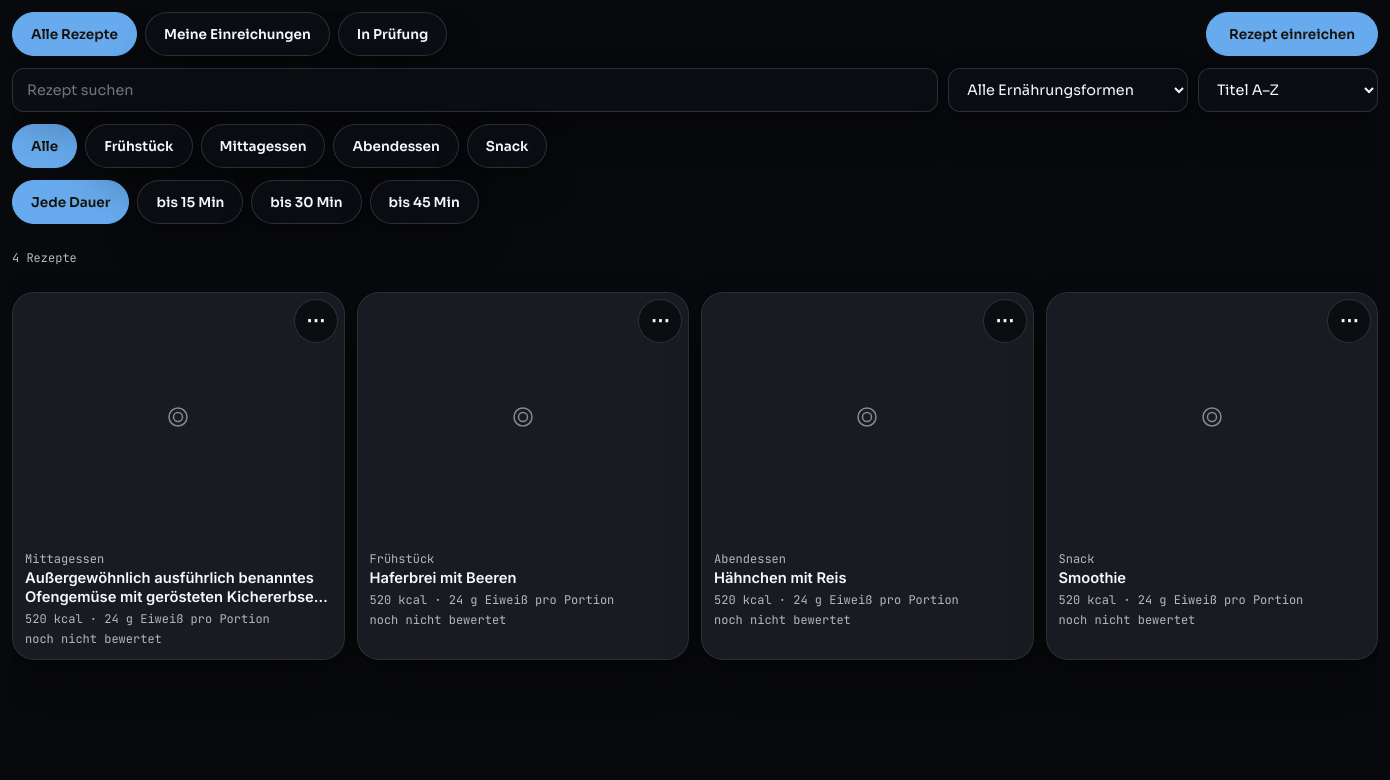
RecipesView — Zustände › Filter ohne Treffer: 'Kein Rezept passt' mit Weg zurück
Type "xyz" into the search field labelled "Rezept suchen". click: [475, 90]
box: 12,68 -> 938,112
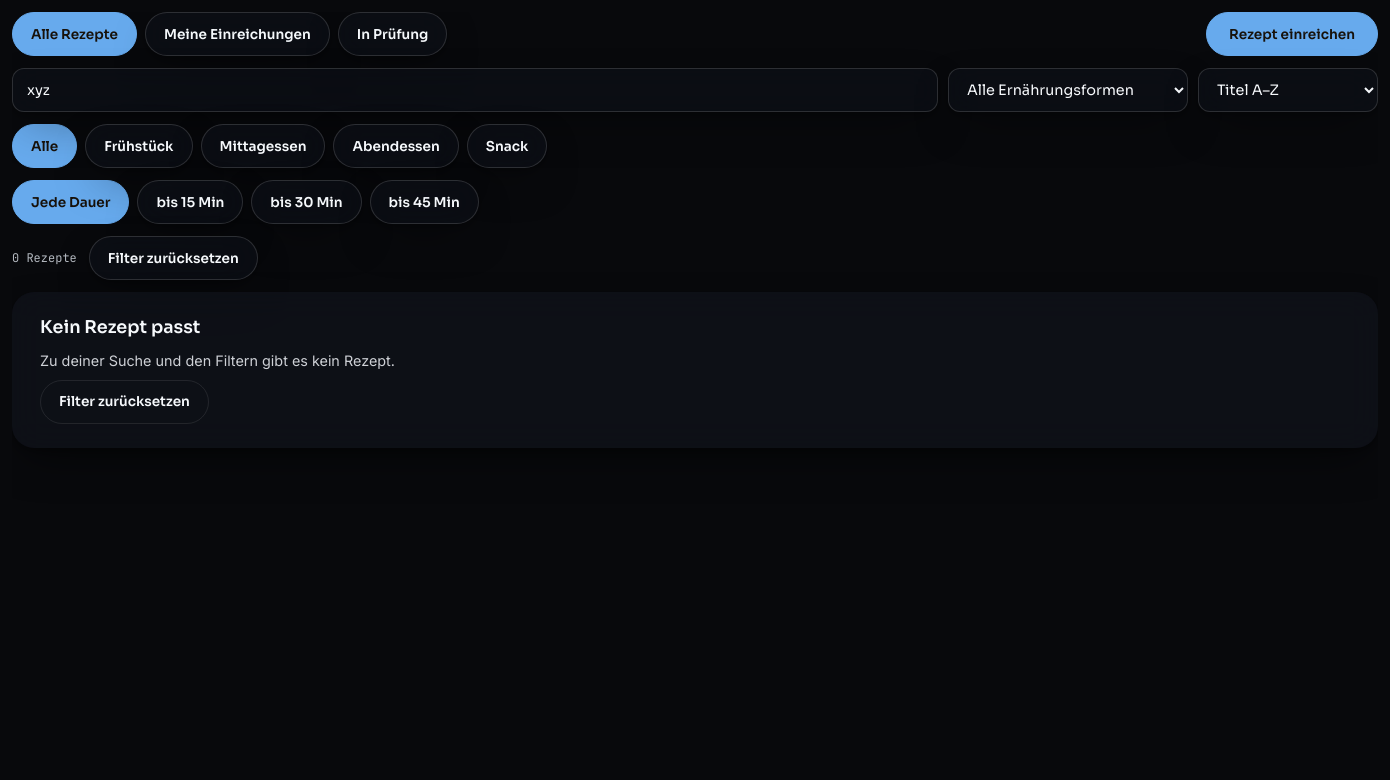
Expected: the heading "Kein Rezept passt" is shown, 40,316 -> 200,338
Click the button "Filter zurücksetzen" next to "0 Rezepte". click: [173, 258]
box: 89,236 -> 258,280
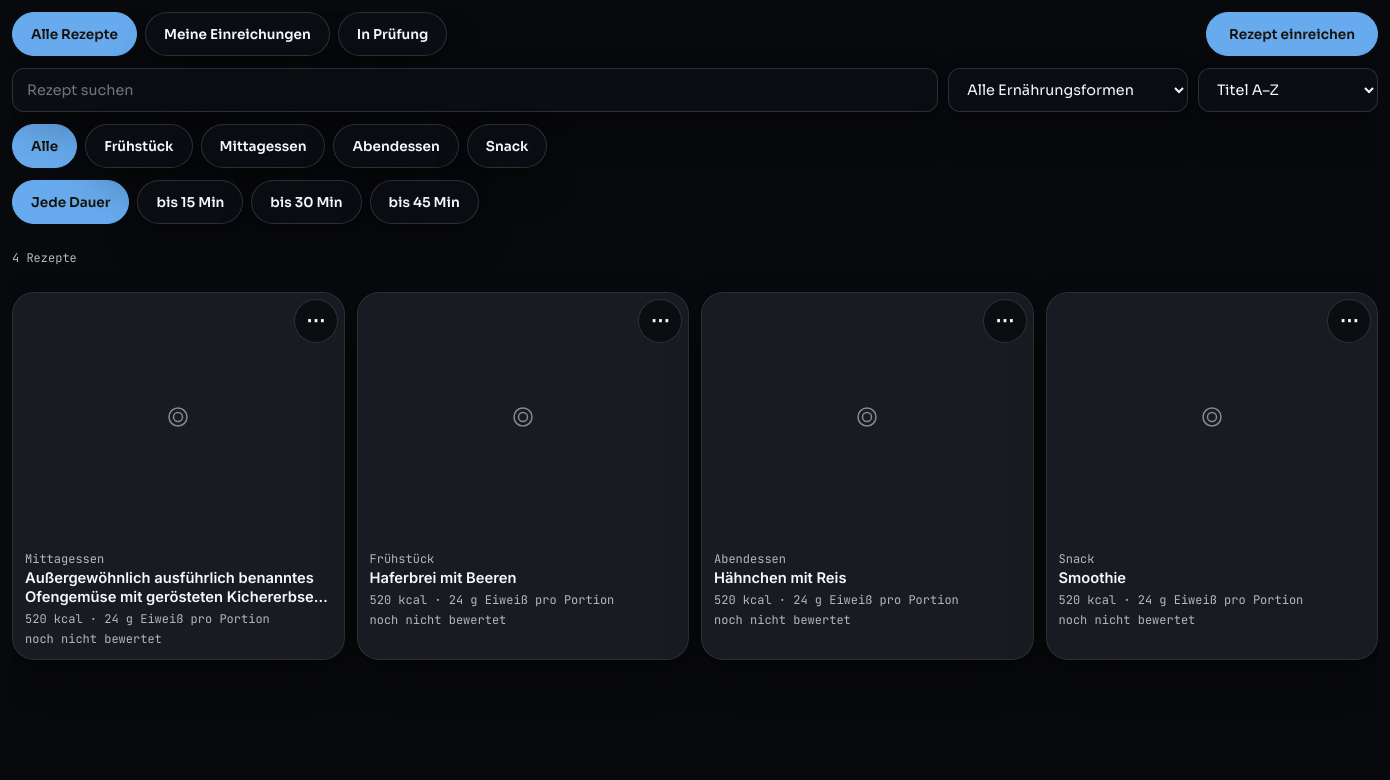
Expected: the heading "Kein Rezept passt" is gone
